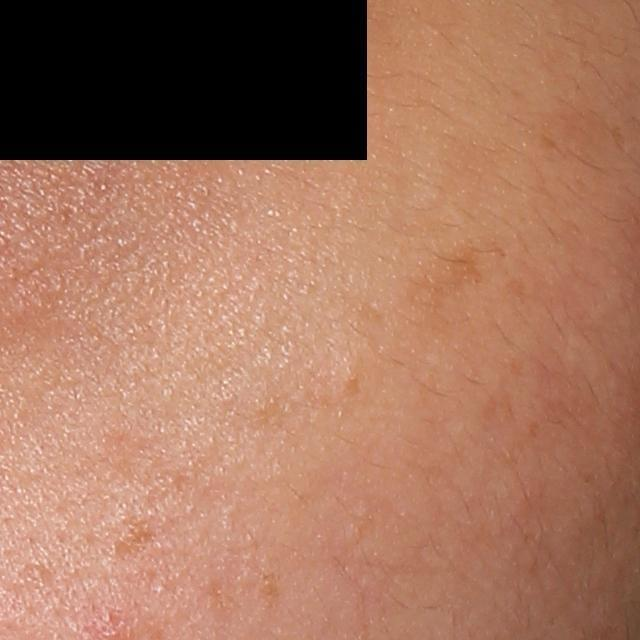melasma: (397, 233, 504, 341)
